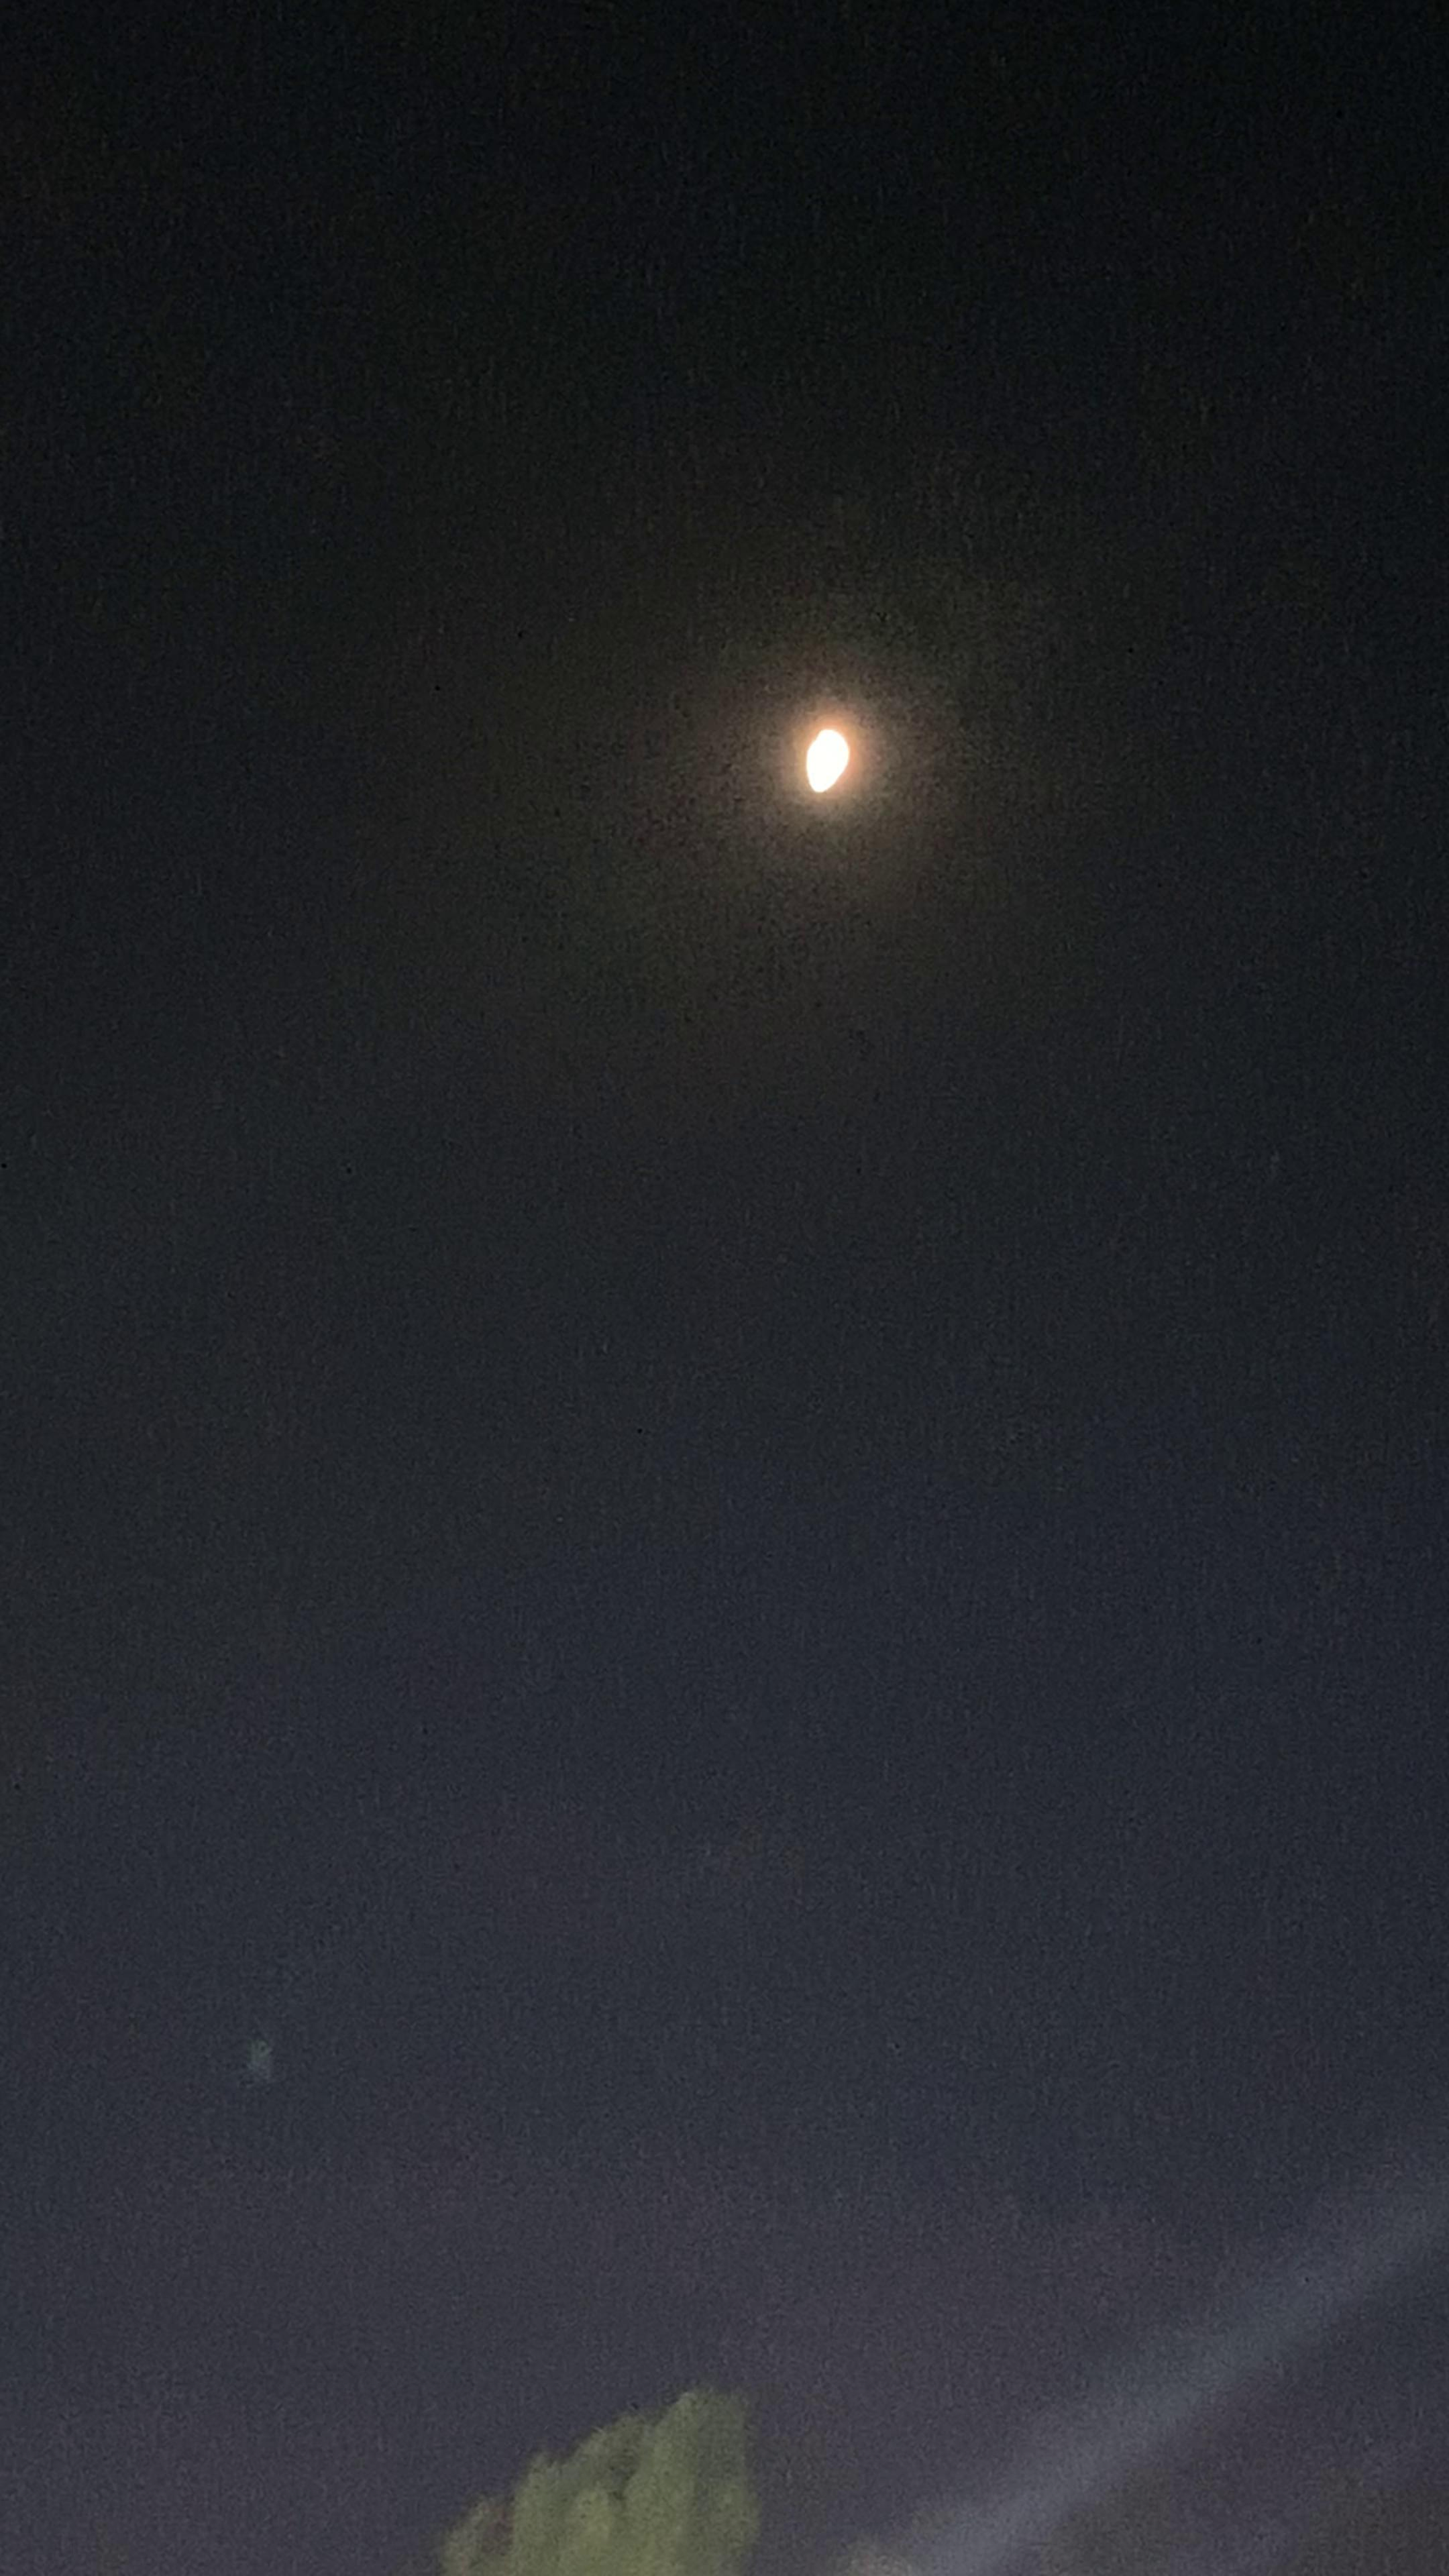moon: (778, 688, 895, 816)
